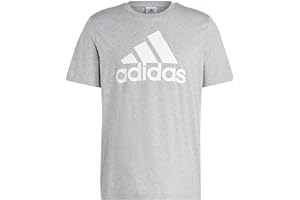design: (113, 27, 187, 85)
